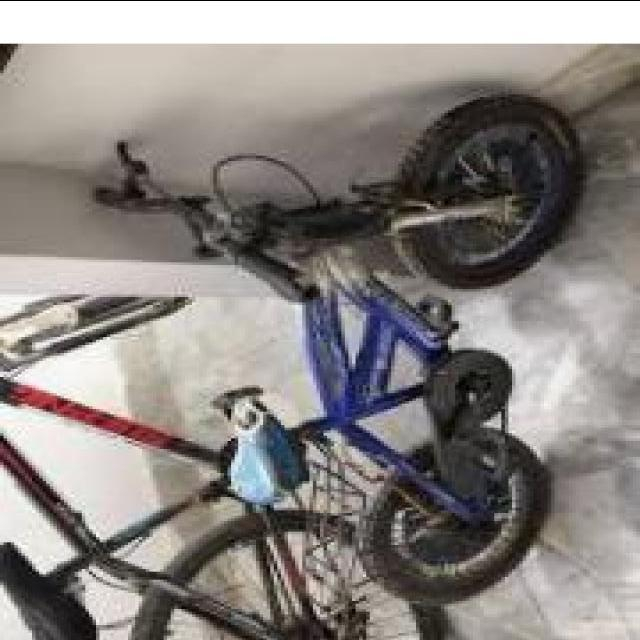bicycle: (143, 55, 591, 640), (1, 407, 392, 640)
